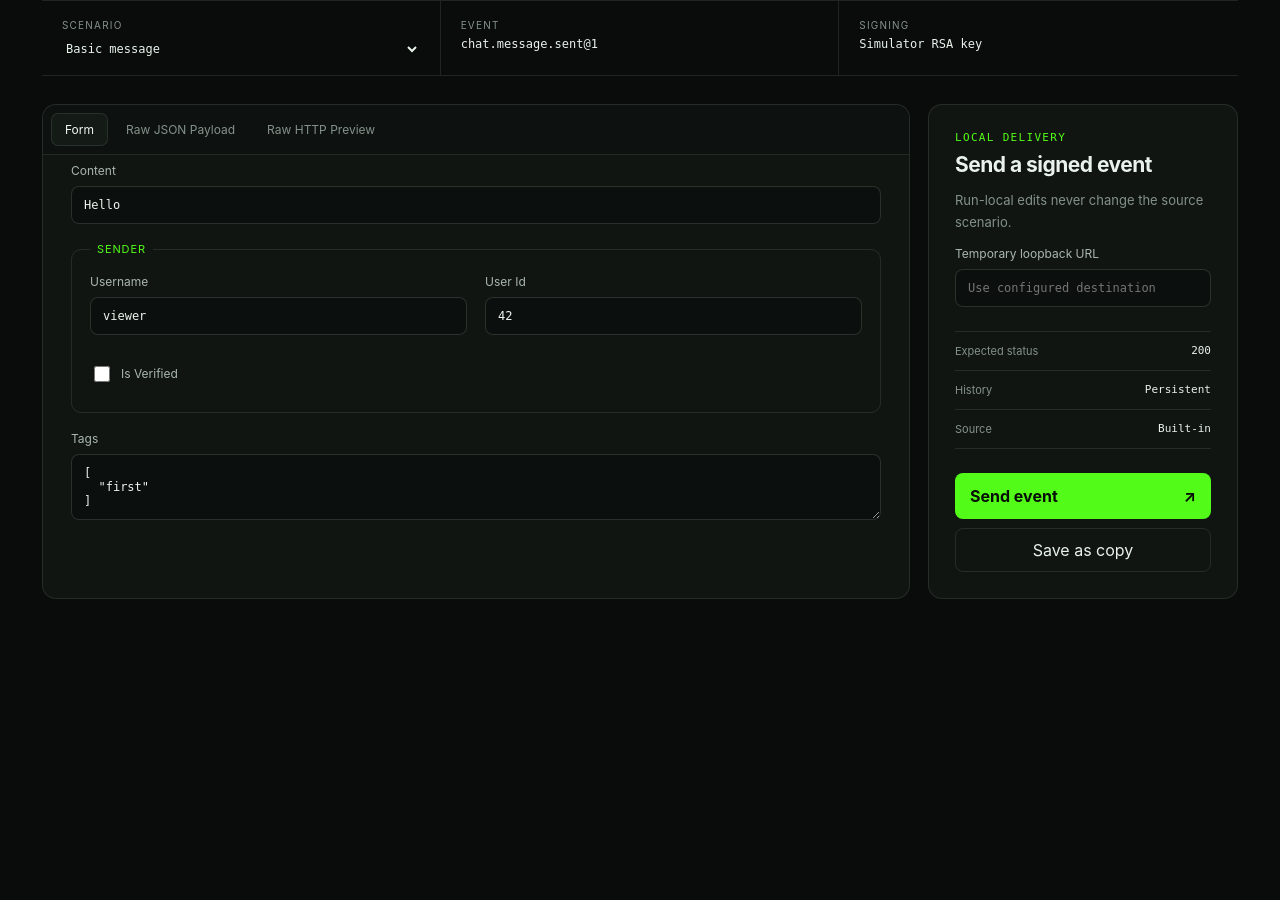
Scenario: event builder request state › invalidates activity after a successful send
Click the button "Send event ↗" at (1083, 496), box top-left (955, 473), bottom-right (1211, 519)
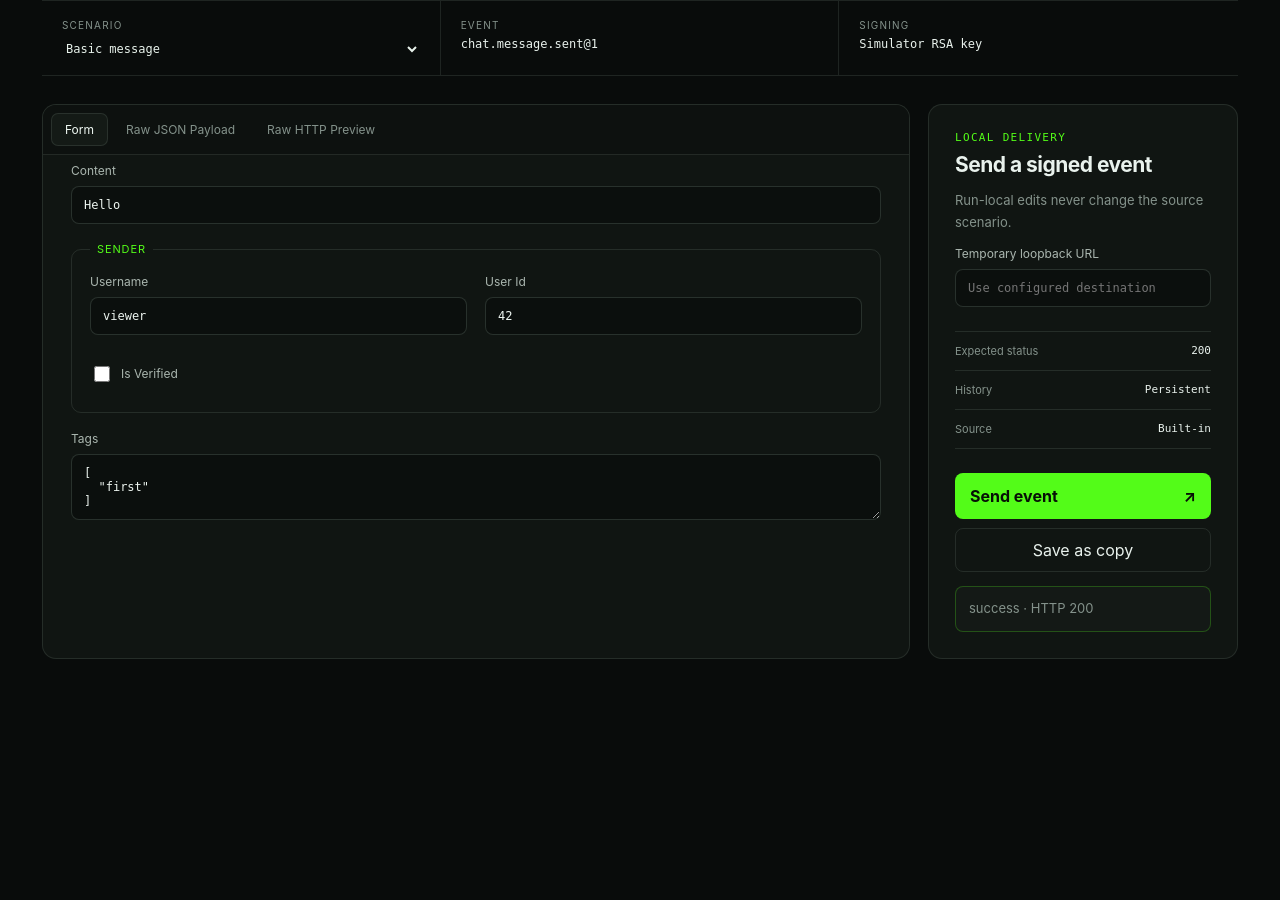
Expected: the text "success · HTTP 200" is shown, top-left (955, 586), bottom-right (1211, 632)
